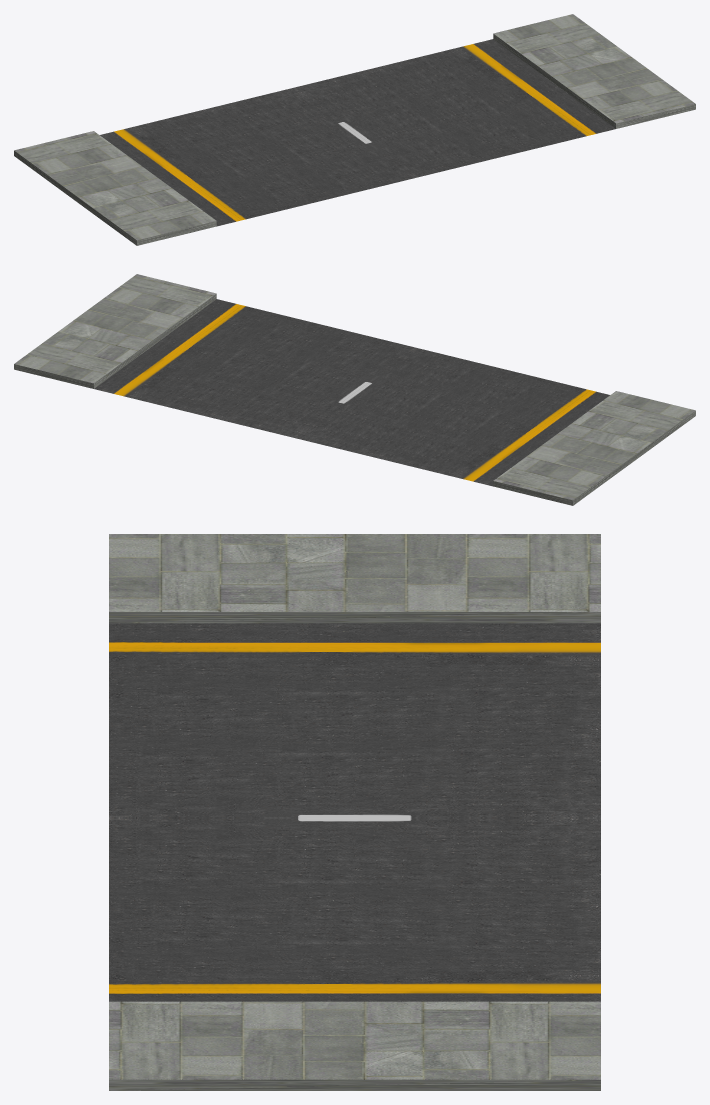
File: road.fbx
The picture shows the model from 3 angles, top to bottom: view 1: azimuth 30°, elevation 25°; view 2: azimuth 150°, elevation 25°; view 3: azimuth 270°, elevation 25°; orthographic projection. The views are drawn at different scales.
Visible parts, largest first — view 1: road_yellow; view 2: road_yellow; view 3: road_yellow.
Part boxes in pixels (<box>): road_yellow: <box>14,14,695,245</box>; road_yellow: <box>14,274,695,505</box>; road_yellow: <box>109,534,600,1090</box>.
Bounding box in the file's own units: 0.0105 × 0.004 × 0.0001.
Materials: 2 (2 with a texture image).
